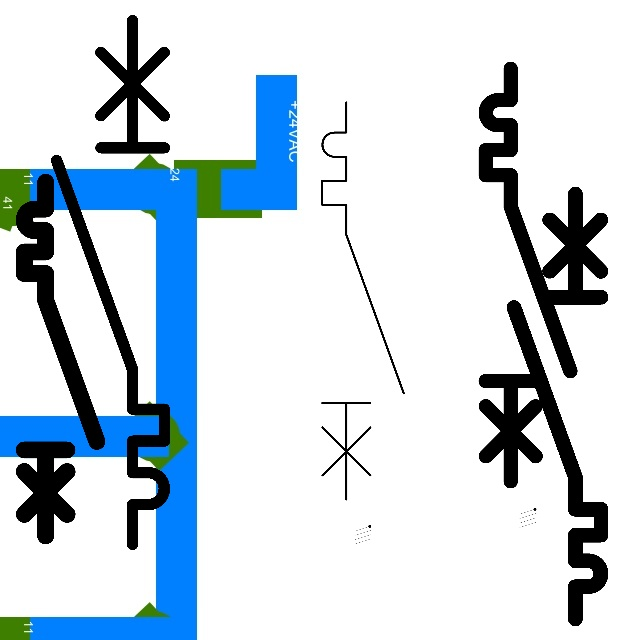interruptor_termomagnetico: (43, 7, 178, 558), (503, 183, 612, 630), (475, 58, 581, 492), (312, 92, 414, 510), (15, 173, 106, 545)
